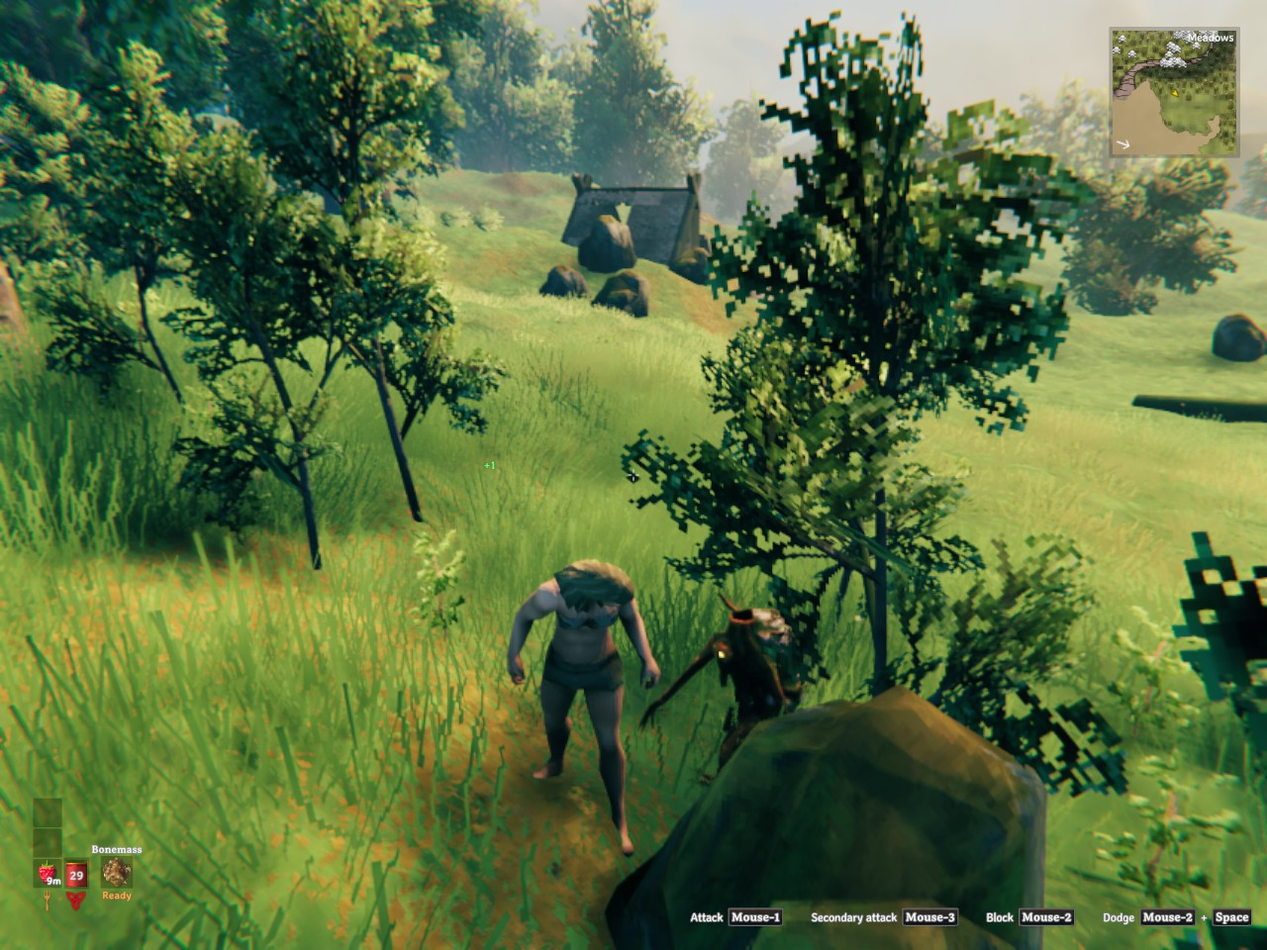Greyling: (639, 595, 801, 770)
